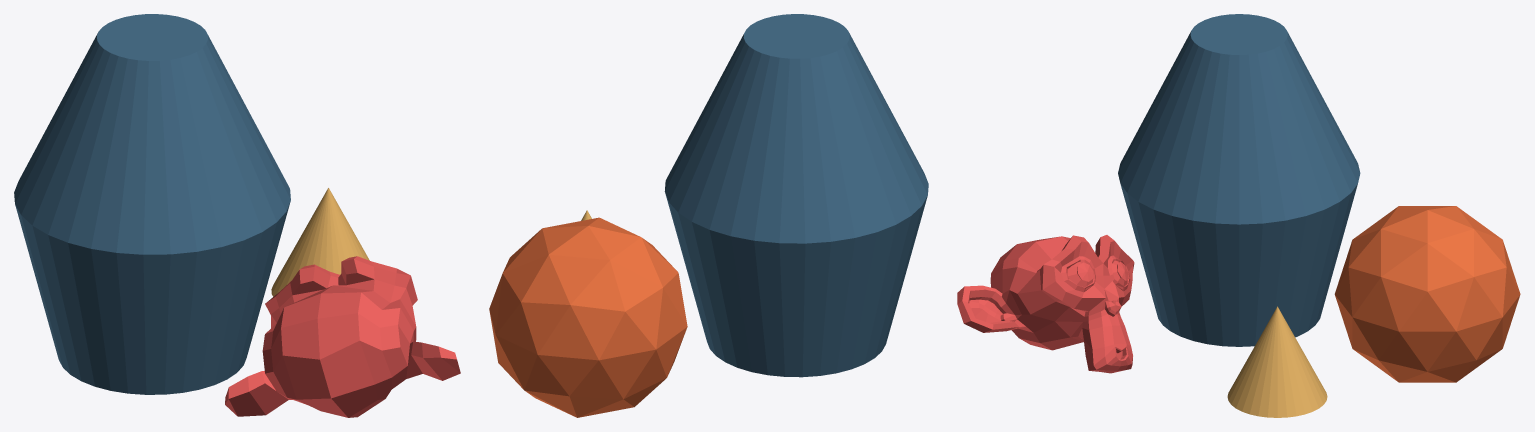
The model's file is quatre.glb.
3 views of the same model, side by side, from view 1: azimuth 30°, elevation 25°; view 2: azimuth 150°, elevation 25°; view 3: azimuth 270°, elevation 25° (orthographic). The views are drawn at different scales.
Parts seen in each view (by area): view 1: Objet_2_Lampe, Objet_1_Suzanne, Objet_3_Cone; view 2: Objet_2_Lampe, Objet_4_Ballon; view 3: Objet_2_Lampe, Objet_4_Ballon, Objet_1_Suzanne, Objet_3_Cone.
Part boxes in pixels (x1,y1,x2,y2): Objet_2_Lampe: (14,14,290,394); Objet_1_Suzanne: (225,256,460,417); Objet_3_Cone: (271,188,369,296); Objet_2_Lampe: (664,14,928,377); Objet_4_Ballon: (489,217,687,417); Objet_2_Lampe: (1118,14,1360,346); Objet_4_Ballon: (1334,206,1520,382); Objet_1_Suzanne: (957,235,1134,373); Objet_3_Cone: (1227,306,1327,417).
Bounding box in the file's own units: 1.06 × 0.9347 × 1.61.
